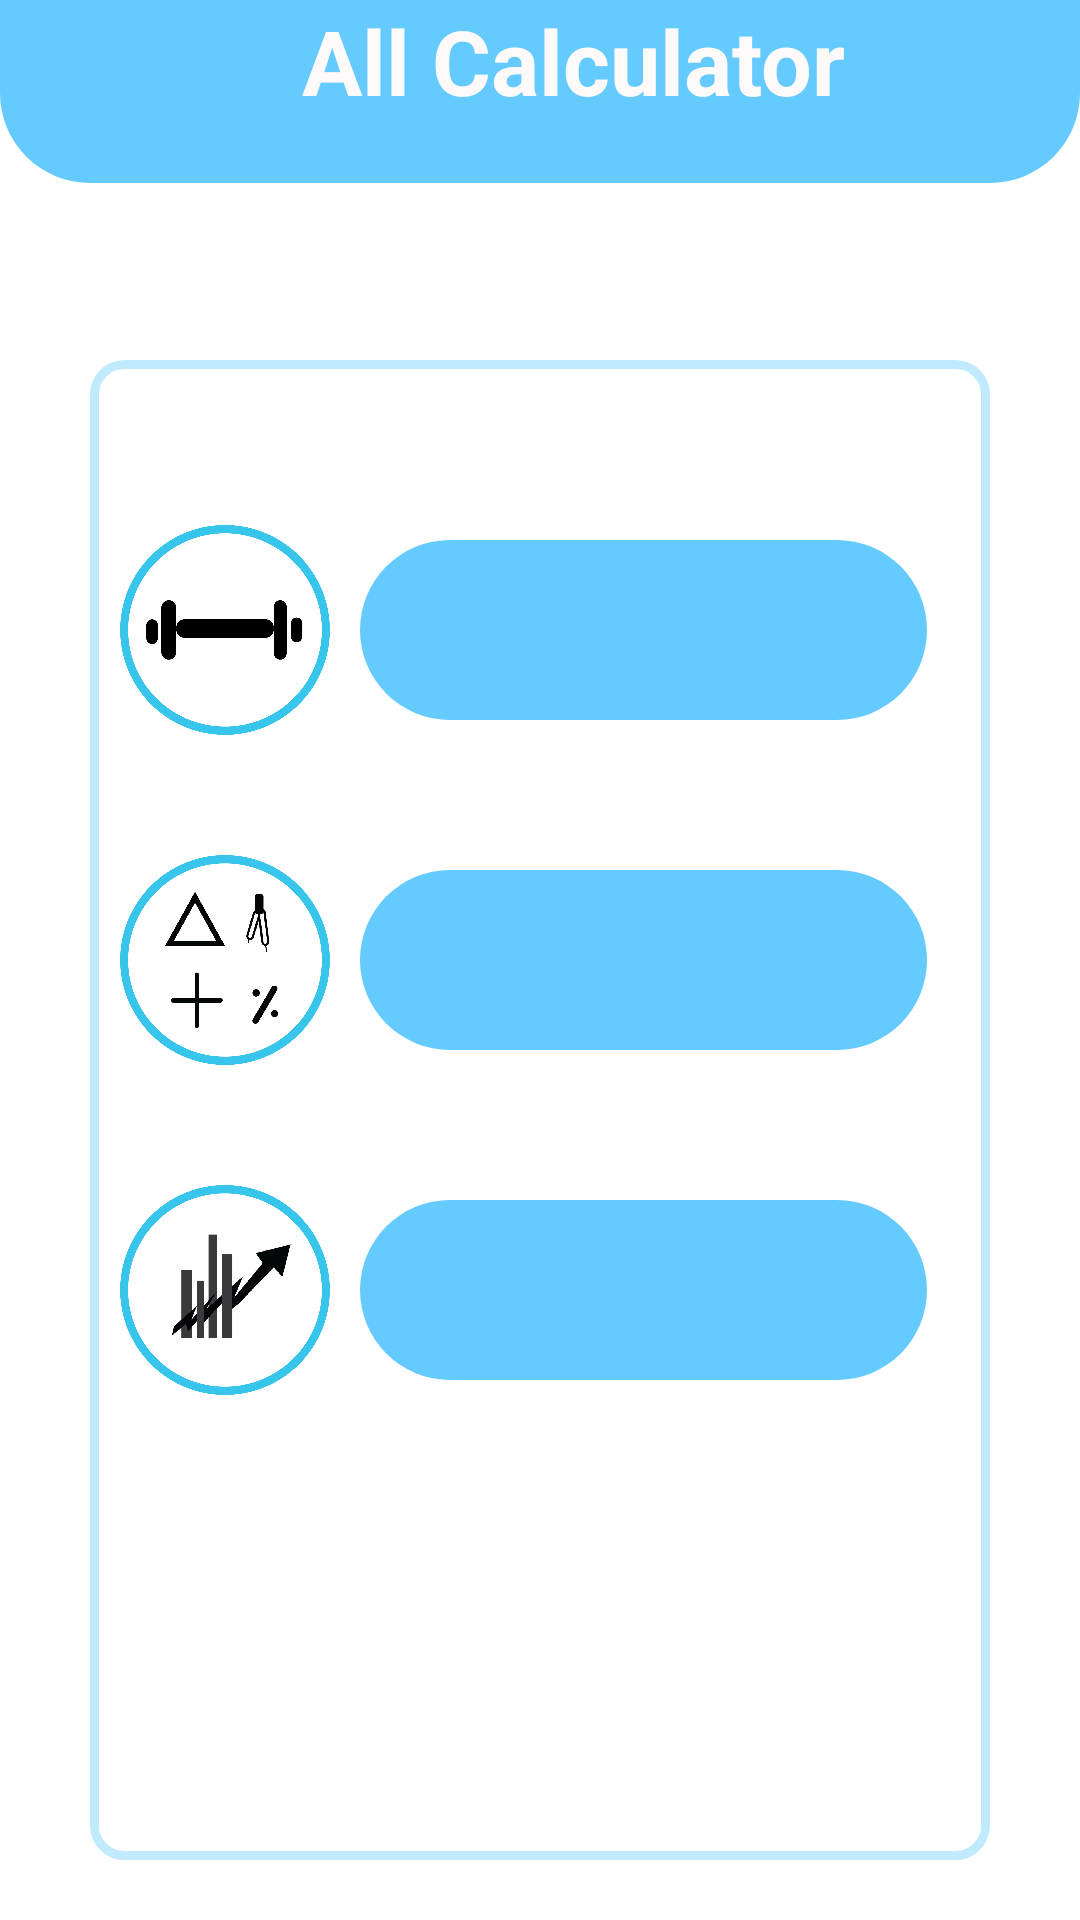

Icons on this 1080 x 1920 Android screen, each with the point to tap as [x,y]:
fitness: [225,630]
interest: [225,1290]
maths: [225,960]
